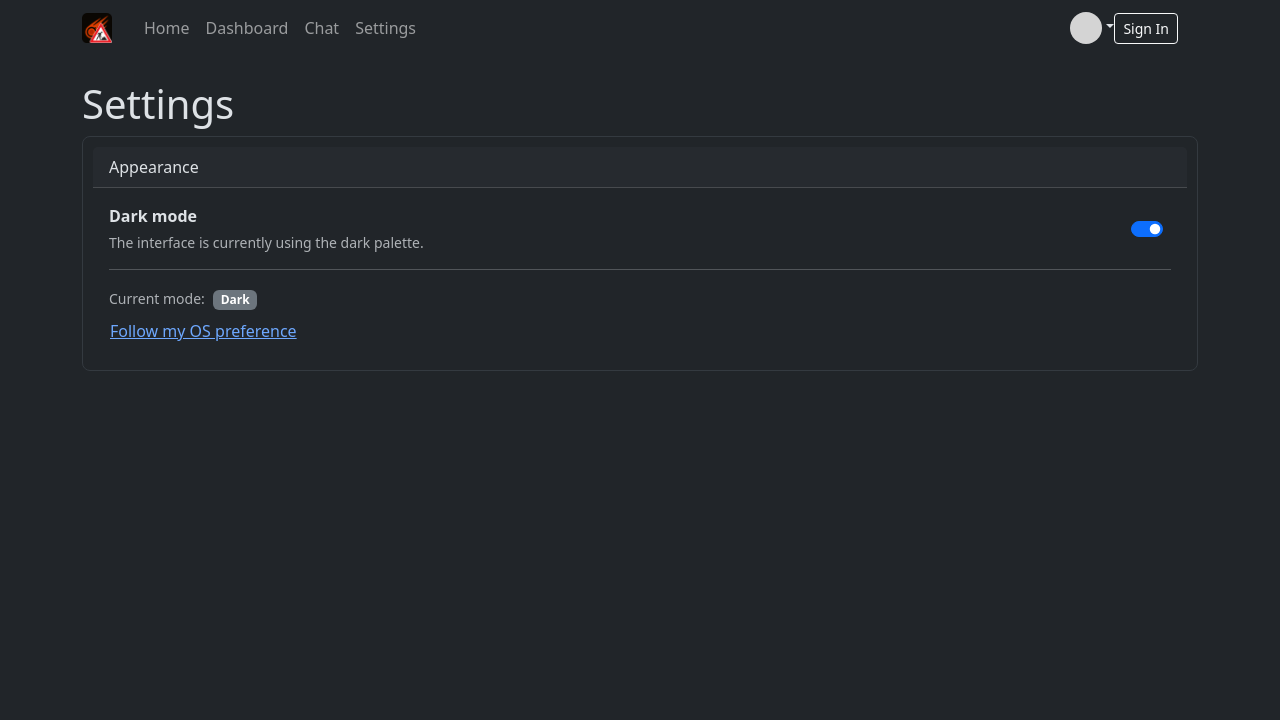
Test: Settings — dark mode toggle (issue #85) › offers "Follow my OS preference" once an explicit choice has been made
Expected: the element with test id "settings-page" is shown, top-left (82, 80), bottom-right (1198, 371)
Note: Pick an explicit theme.
Click the checkbox with test id "settings-dark-mode-switch" at (1147, 229), box top-left (1131, 221), bottom-right (1163, 237)
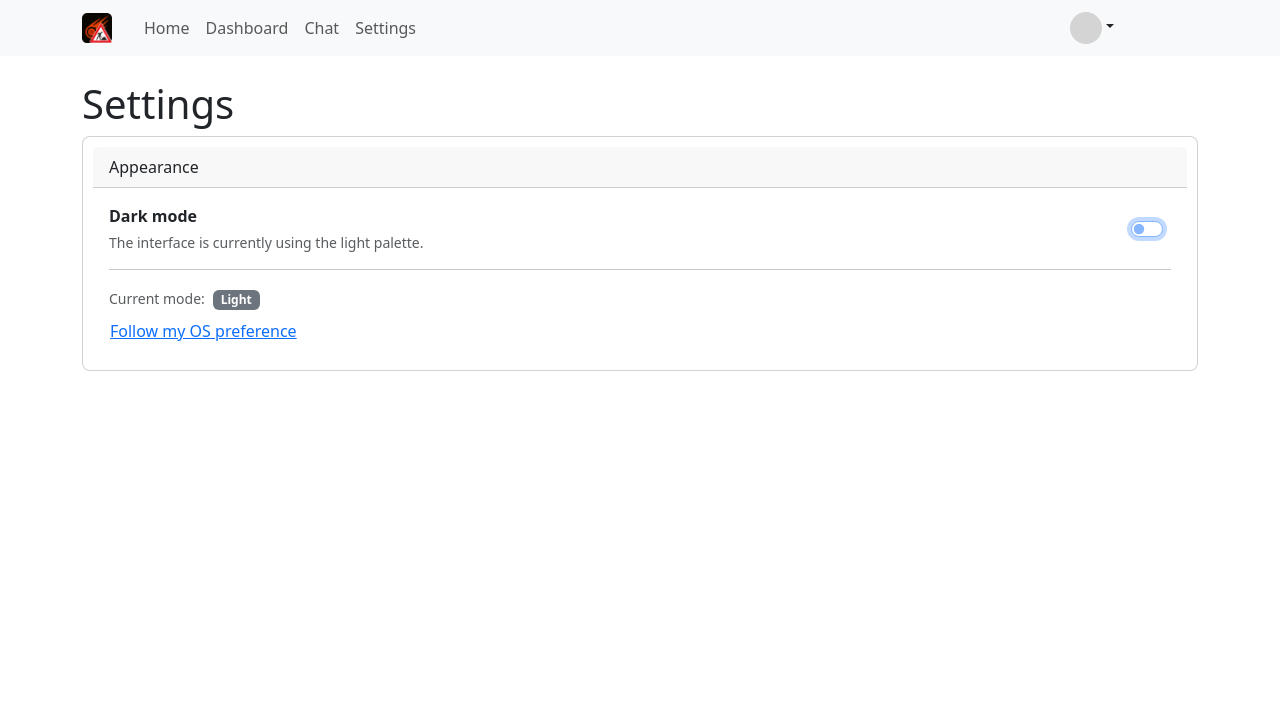
Note: Clicking it returns us to OS mode and hides the button.
Click the button with test id "settings-follow-os-button" at (204, 331), box top-left (109, 318), bottom-right (298, 344)
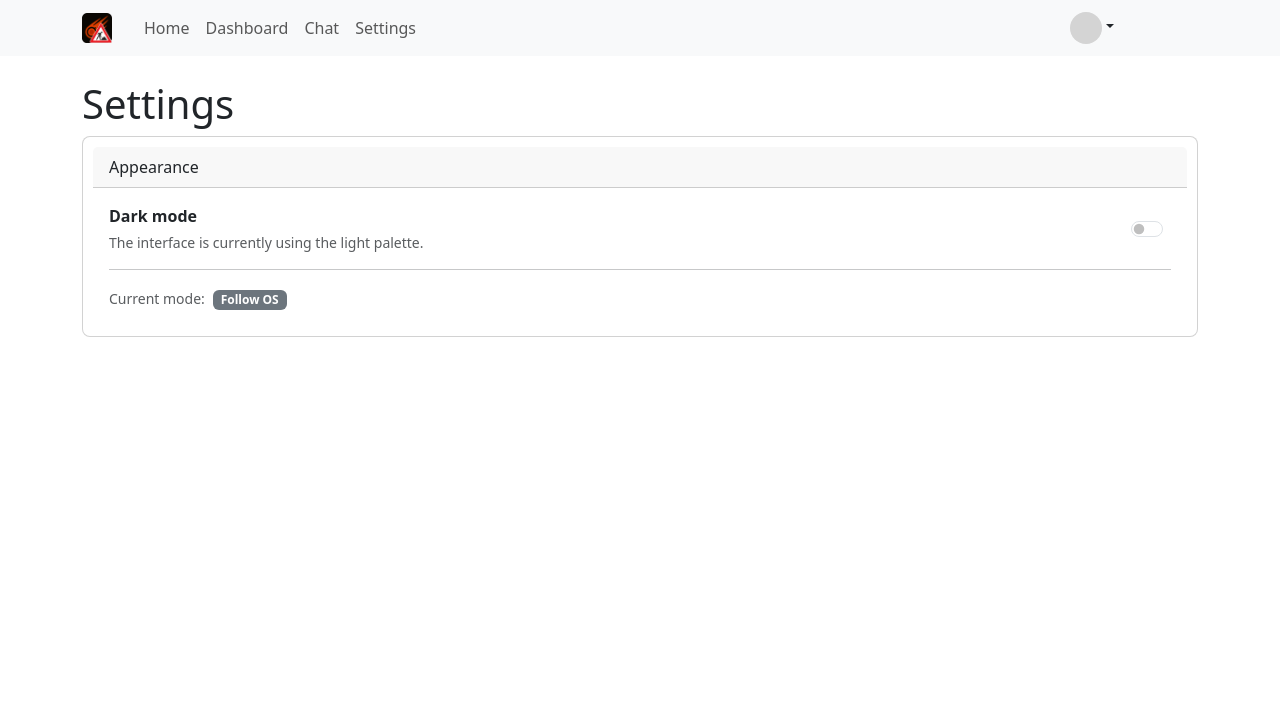
Result: the text with test id "settings-current-mode-value" reads "Follow OS" at top-left (221, 291), bottom-right (279, 308)
Result: the button with test id "settings-follow-os-button" is gone
